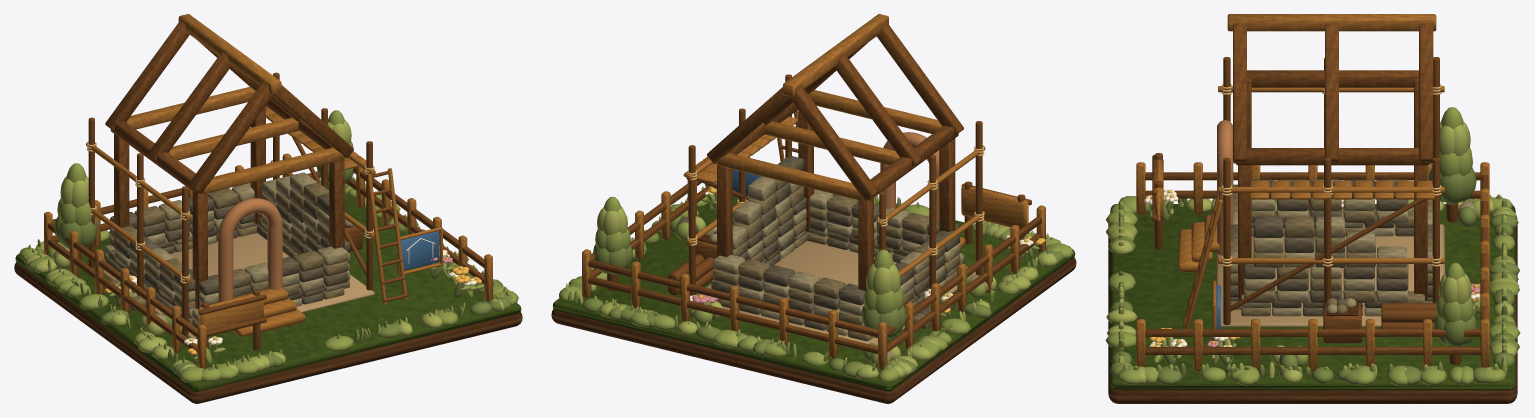
File: stage-3.glb
3 views of the same model, side by side, from view 1: azimuth 30°, elevation 25°; view 2: azimuth 150°, elevation 25°; view 3: azimuth 270°, elevation 25° (orthographic). The views are drawn at different scales.
Visible parts, largest first — view 1: Surface_Honey wood, Surface_Golden end grain, Surface_Moss lawn, Surface_Ochre earth, Surface_Stone 0, Surface_Foliage 1, Surface_Stone 1, Surface_Stone 2, Surface_Foliage 2, Surface_Foliage 0, Surface_Terracotta, Surface_Garden soil (+2 smaller); view 2: Surface_Honey wood, Surface_Golden end grain, Surface_Moss lawn, Surface_Foliage 1, Surface_Stone 1, Surface_Stone 0, Surface_Ochre earth, Surface_Stone 2, Surface_Foliage 0, Surface_Foliage 2, Surface_Garden soil, Surface_Terracotta; view 3: Surface_Honey wood, Surface_Moss lawn, Surface_Golden end grain, Surface_Foliage 1, Surface_Foliage 0, Surface_Stone 1, Surface_Ochre earth, Surface_Stone 0, Surface_Stone 2, Surface_Foliage 2, Surface_Garden soil, Surface_Terracotta (+2 smaller).
Part boxes in pixels (left/top/right/bottom): Surface_Honey wood: left=47, top=21, right=484, bottom=362; Surface_Golden end grain: left=44, top=14, right=492, bottom=368; Surface_Moss lawn: left=15, top=184, right=521, bottom=391; Surface_Ochre earth: left=14, top=225, right=522, bottom=403; Surface_Stone 0: left=104, top=182, right=349, bottom=328; Surface_Foliage 1: left=19, top=110, right=518, bottom=382; Surface_Stone 1: left=53, top=172, right=353, bottom=324; Surface_Stone 2: left=109, top=193, right=349, bottom=305; Surface_Foliage 2: left=23, top=120, right=509, bottom=373; Surface_Foliage 0: left=27, top=163, right=512, bottom=376; Surface_Terracotta: left=218, top=198, right=282, bottom=302; Surface_Garden soil: left=94, top=233, right=374, bottom=338; Surface_Honey wood: left=588, top=22, right=1041, bottom=353; Surface_Golden end grain: left=582, top=14, right=1045, bottom=370; Surface_Moss lawn: left=552, top=194, right=1075, bottom=391; Surface_Foliage 1: left=559, top=186, right=1073, bottom=381; Surface_Stone 1: left=709, top=176, right=988, bottom=359; Surface_Stone 0: left=704, top=179, right=960, bottom=341; Surface_Ochre earth: left=551, top=235, right=1076, bottom=403; Surface_Stone 2: left=676, top=155, right=960, bottom=330; Surface_Foliage 0: left=568, top=184, right=1063, bottom=377; Surface_Foliage 2: left=565, top=195, right=1059, bottom=378; Surface_Garden soil: left=696, top=240, right=976, bottom=344; Surface_Terracotta: left=880, top=132, right=939, bottom=220; Surface_Honey wood: left=1145, top=23, right=1488, bottom=364; Surface_Moss lawn: left=1110, top=204, right=1515, bottom=390; Surface_Golden end grain: left=1136, top=14, right=1489, bottom=371; Surface_Foliage 1: left=1105, top=107, right=1520, bottom=385; Surface_Foliage 0: left=1108, top=168, right=1519, bottom=385; Surface_Stone 1: left=1230, top=179, right=1476, bottom=316; Surface_Ochre earth: left=1108, top=217, right=1517, bottom=403; Surface_Stone 0: left=1230, top=179, right=1432, bottom=316; Surface_Stone 2: left=1230, top=179, right=1476, bottom=362; Surface_Foliage 2: left=1106, top=121, right=1519, bottom=384; Surface_Garden soil: left=1216, top=224, right=1444, bottom=326; Surface_Terracotta: left=1217, top=120, right=1233, bottom=255.
Bounding box in the file's own units: 7.38 × 5.29 × 7.
Materials: 17 (8 with a texture image).
